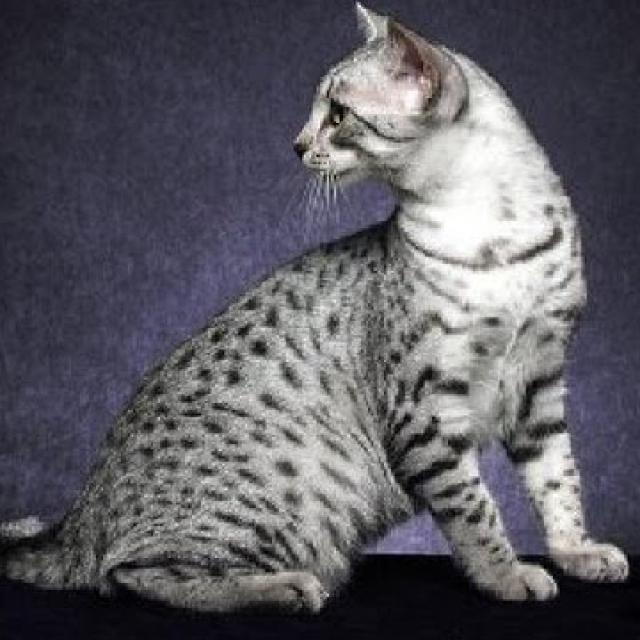Egyptian Mau: (0, 0, 633, 613)
